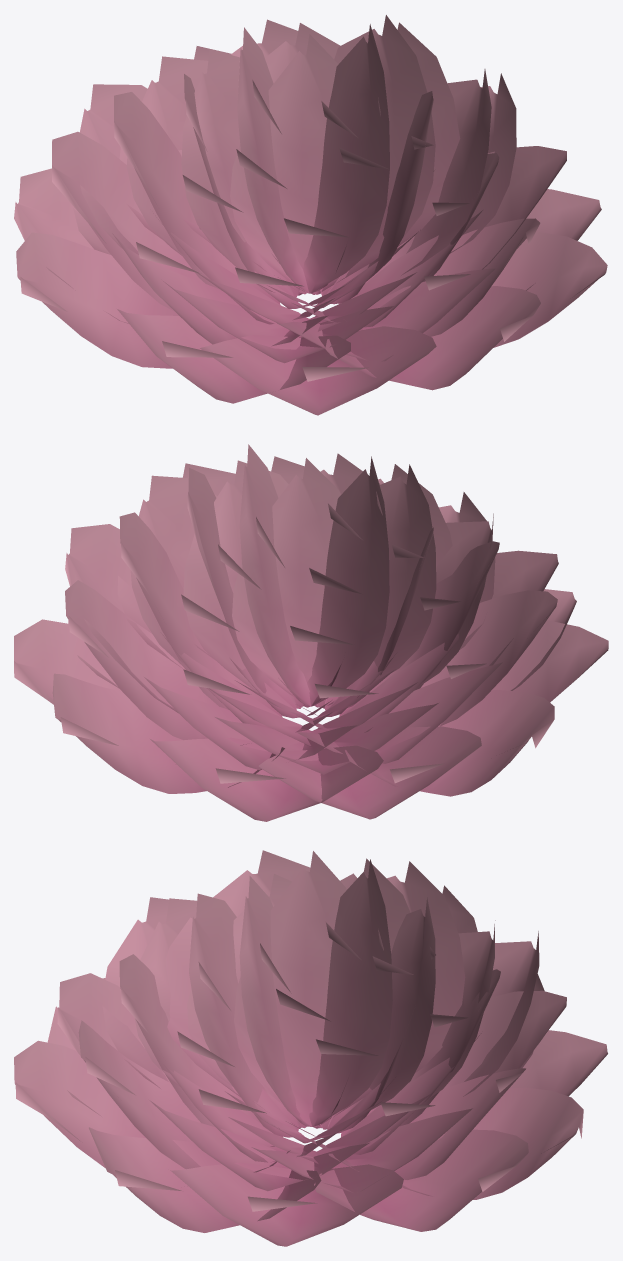
Rendered from carnation.glb.
3 renders of one model, top to bottom at view 1: azimuth 30°, elevation 25°; view 2: azimuth 150°, elevation 25°; view 3: azimuth 270°, elevation 25°, orthographic. The views are drawn at different scales.
Parts seen in each view (by area): view 1: carnation.001; view 2: carnation.001; view 3: carnation.001.
Part boxes in pixels (x1,y1,x2,y2): carnation.001: (14,15,607,415); carnation.001: (14,444,608,821); carnation.001: (14,850,607,1246).
Bounding box in the file's own units: 0.0749 × 0.0423 × 0.0756.
